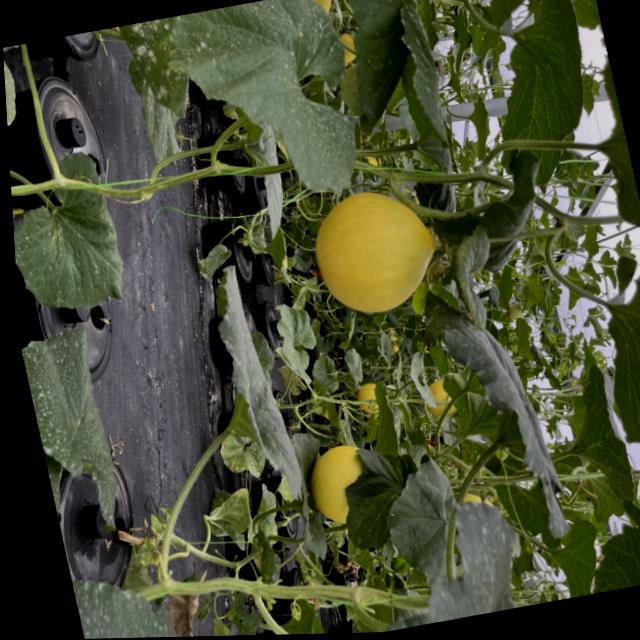CMV: (378, 0, 460, 179), (202, 480, 261, 552)
downy mildew: (198, 252, 312, 506)
healthy: (466, 0, 612, 187), (590, 256, 640, 447)
powdery mildew: (164, 0, 372, 213), (19, 314, 143, 548), (11, 181, 133, 318), (66, 545, 193, 639), (3, 44, 32, 141)
